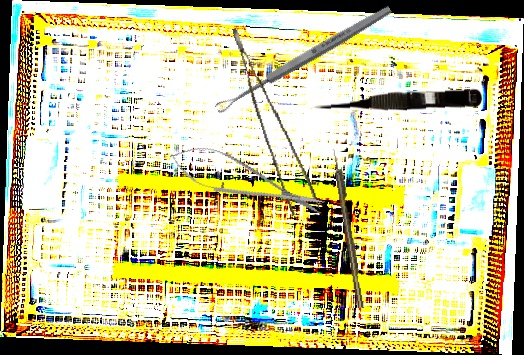Hook Surgical: (331, 148, 365, 309)
Micro Scissor: (163, 135, 331, 228), (312, 85, 483, 116)
Surgical Spoon: (213, 3, 394, 115)
Tissue Forceps: (232, 19, 320, 219)
